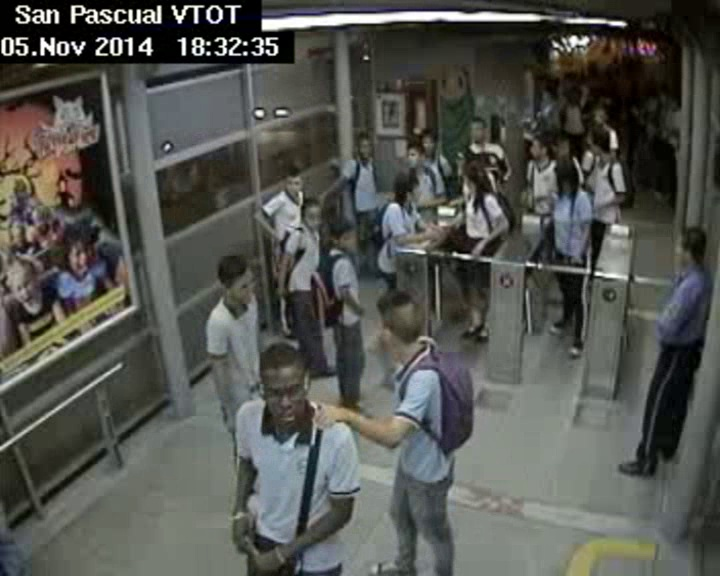person: (369, 287, 439, 372), (251, 342, 311, 432), (217, 254, 257, 310), (675, 222, 707, 270), (456, 156, 489, 193), (588, 125, 619, 162), (395, 171, 428, 205), (550, 165, 581, 201), (350, 129, 378, 165), (398, 139, 426, 172), (330, 216, 353, 252), (525, 132, 552, 159), (302, 199, 323, 231), (419, 129, 443, 157), (465, 115, 489, 142), (283, 165, 303, 197), (552, 133, 571, 158), (540, 81, 560, 102), (589, 106, 609, 123), (567, 88, 581, 103)
